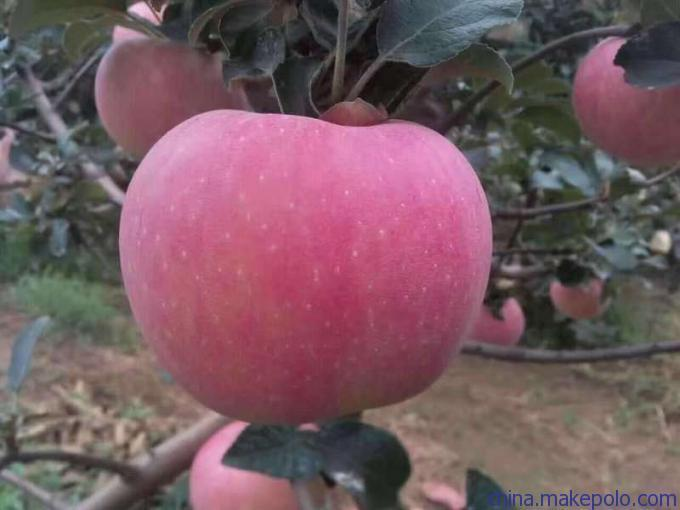apple: (107, 87, 501, 424), (98, 36, 252, 158), (570, 26, 680, 168)
